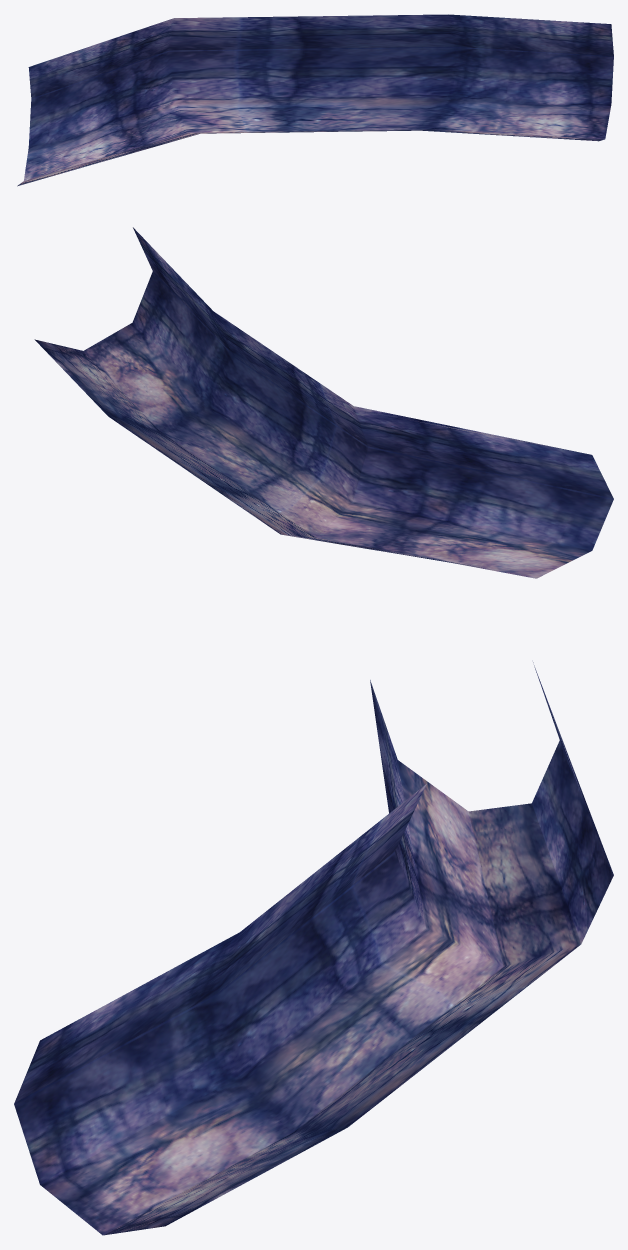
The picture shows the model from 3 angles, top to bottom: view 1: azimuth 30°, elevation 25°; view 2: azimuth 150°, elevation 25°; view 3: azimuth 270°, elevation 25°; orthographic projection. The views are drawn at different scales.
Parts seen in each view (by area): view 1: 23; view 2: 23; view 3: 23.
Part boxes in pixels (bbox=[...]): 23: bbox=[17, 14, 613, 186]; 23: bbox=[34, 227, 613, 578]; 23: bbox=[14, 662, 613, 1235].
Size of the model in its own units: 19065 by 3751 by 9987.
1 material, 1 textured.
